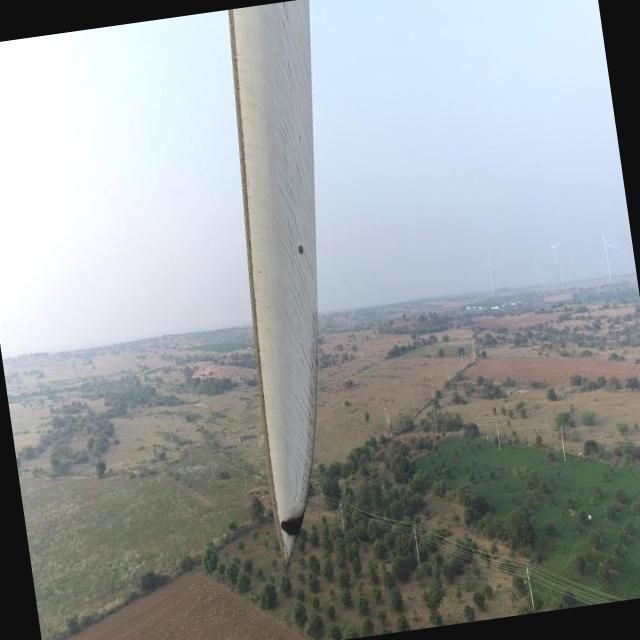Dirt: (228, 0, 317, 556)
Oil LEAKAGE: (281, 511, 304, 539)
Pin Hole: (296, 244, 308, 257), (280, 519, 290, 531)
